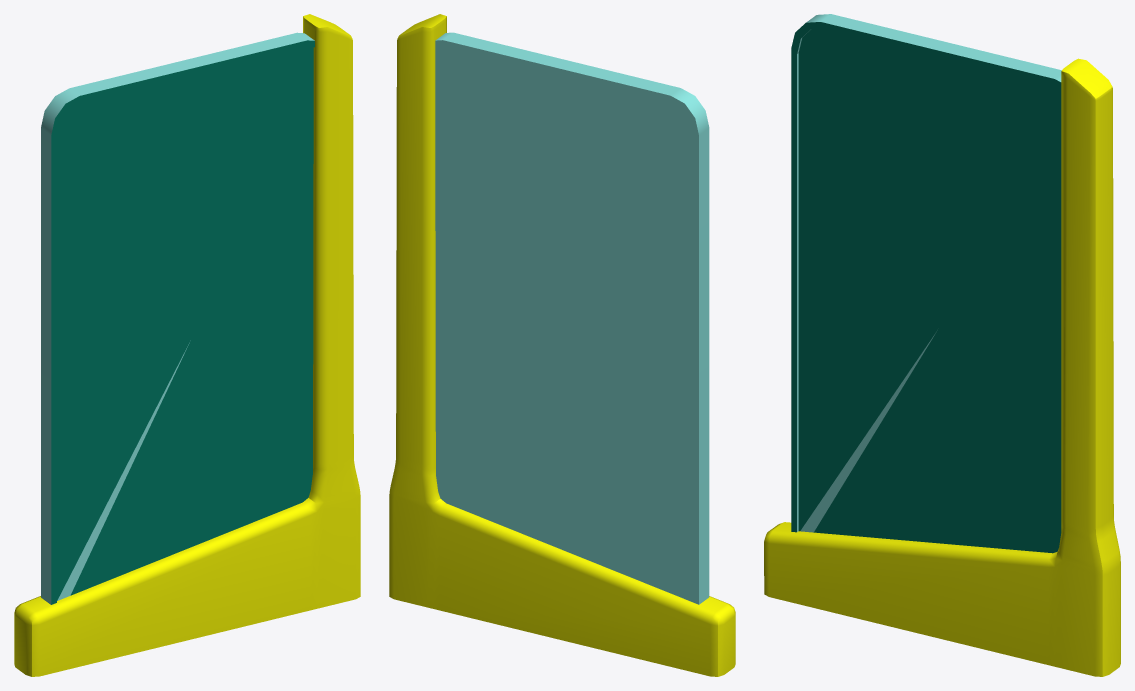
Rendered from SM_Ecran_pub.fbx.
The picture shows the model from 3 angles, left to right: view 1: azimuth 30°, elevation 25°; view 2: azimuth 150°, elevation 25°; view 3: azimuth 330°, elevation 25°; orthographic projection. The views are drawn at different scales.
Visible parts, largest first — view 1: SM_Ecran_pub; view 2: SM_Ecran_pub; view 3: SM_Ecran_pub.
Part boxes in pixels (x1,y1,x2,y2): SM_Ecran_pub: (14, 14, 360, 676); SM_Ecran_pub: (389, 14, 735, 676); SM_Ecran_pub: (764, 14, 1120, 676).
Bounding box in the file's own units: 0.9053 × 1.5 × 0.0963.
